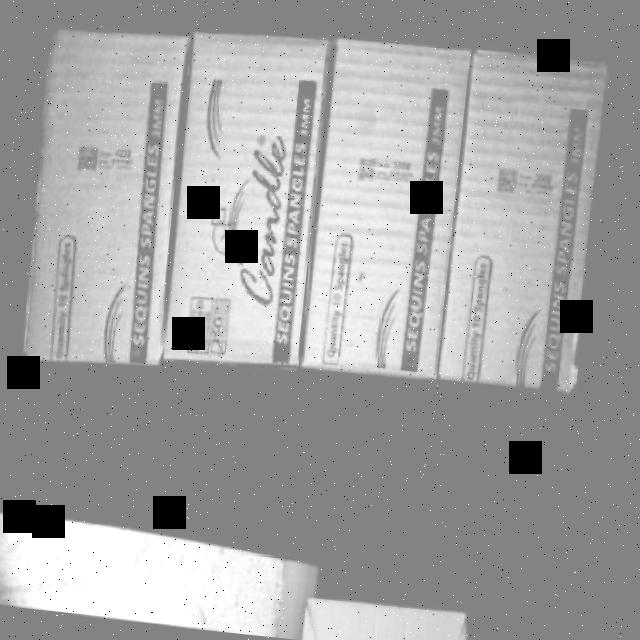box: (15, 28, 198, 374), (437, 54, 616, 397), (300, 34, 477, 370), (158, 40, 334, 369)
